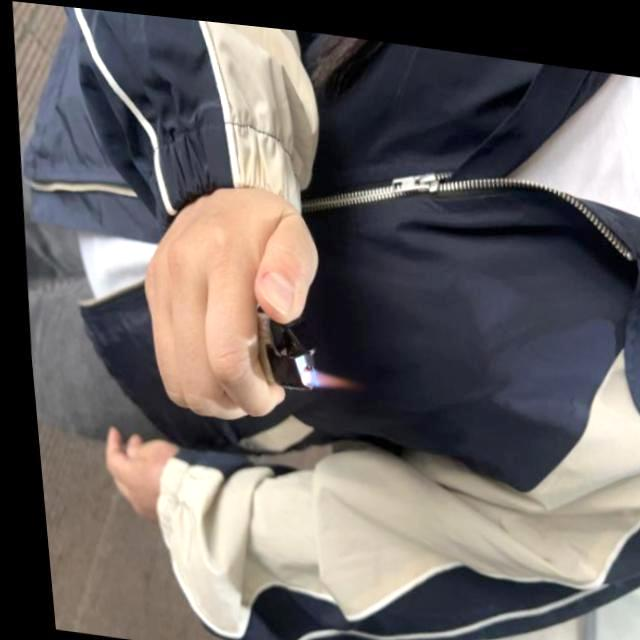fire: (294, 356, 350, 386)
